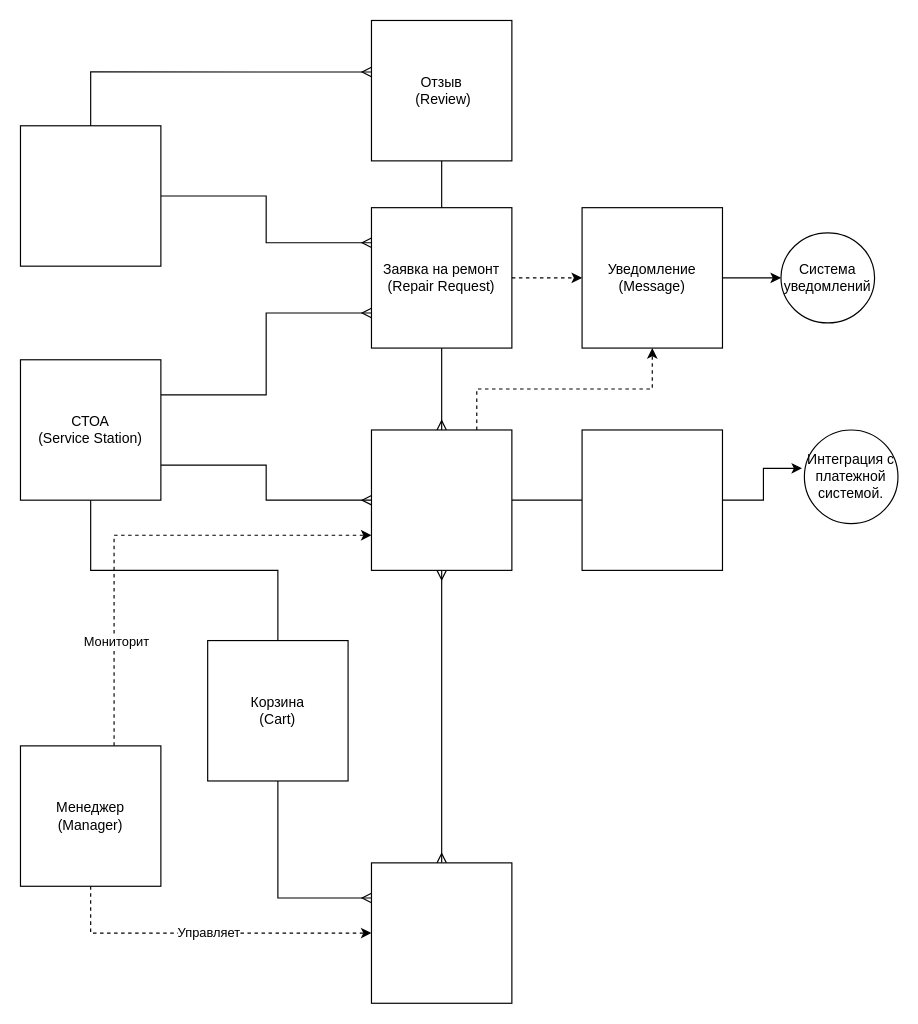
This 918x1024 diagram has some shape labels left out. Here are the shapes that lost their labels. From the top down, the box of each, then its label:
(19, 125, 161, 266): Клиент (Client)
(370, 429, 512, 570): Заказ (Order)
(581, 429, 722, 570): Платежная информация (Payment Information)
(370, 862, 512, 1003): Запасные части (Spare Parts)
